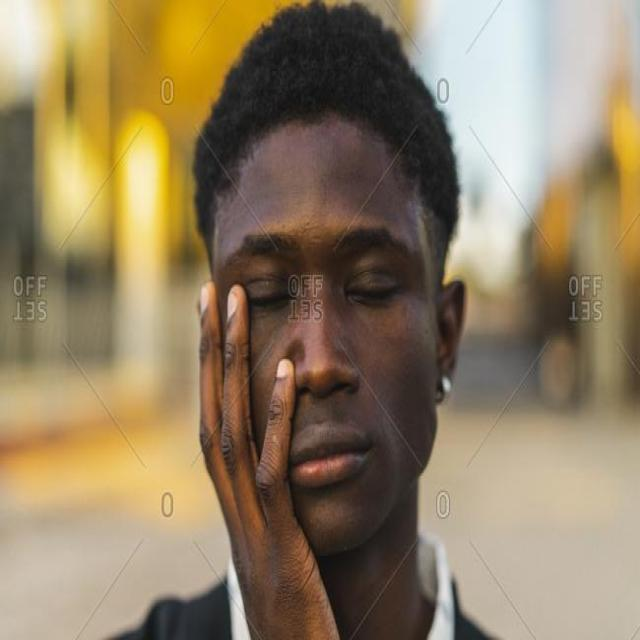Nail: (228, 294, 238, 319), (201, 287, 208, 315), (277, 362, 290, 376)
